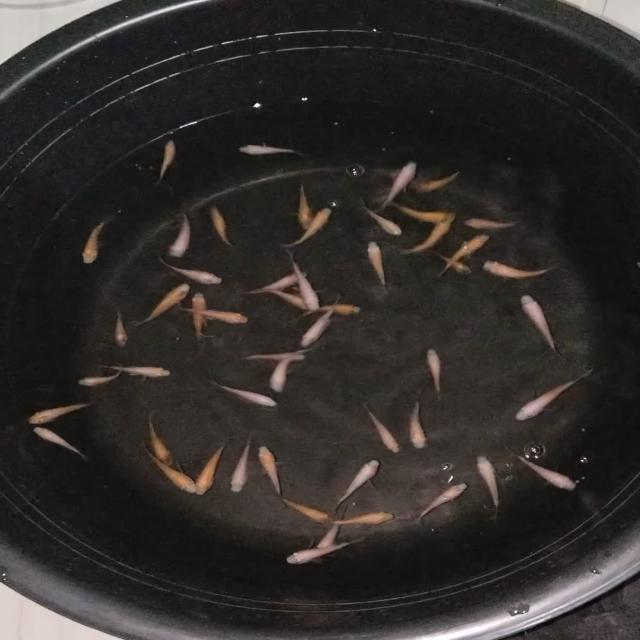nila: (510, 366, 595, 424), (516, 292, 568, 359), (140, 446, 200, 494), (192, 434, 234, 498), (513, 452, 579, 492), (412, 480, 469, 526), (334, 458, 381, 512), (136, 282, 191, 328), (434, 230, 490, 275), (280, 536, 362, 566), (30, 423, 89, 463), (297, 296, 342, 348), (279, 206, 334, 248), (268, 344, 314, 392), (402, 214, 454, 256), (473, 453, 505, 521), (361, 400, 402, 453), (378, 159, 418, 213), (317, 499, 353, 556), (278, 496, 338, 530), (248, 266, 311, 298), (211, 379, 279, 408), (158, 258, 226, 286), (28, 399, 98, 426), (288, 254, 320, 312), (144, 409, 175, 468), (226, 433, 255, 495), (391, 198, 454, 226), (255, 444, 285, 501), (478, 259, 560, 279), (178, 304, 252, 326), (363, 236, 393, 290), (263, 286, 317, 316), (360, 198, 400, 237), (166, 208, 194, 260), (150, 137, 177, 186), (104, 362, 174, 380), (83, 216, 109, 264), (424, 344, 446, 400), (207, 205, 235, 248), (417, 168, 465, 192), (78, 362, 126, 386), (408, 399, 430, 451), (461, 214, 523, 232), (296, 301, 362, 316), (295, 178, 314, 230), (330, 512, 400, 526), (234, 143, 306, 156), (238, 352, 313, 364), (438, 250, 472, 276), (192, 290, 208, 344), (110, 310, 130, 348)
